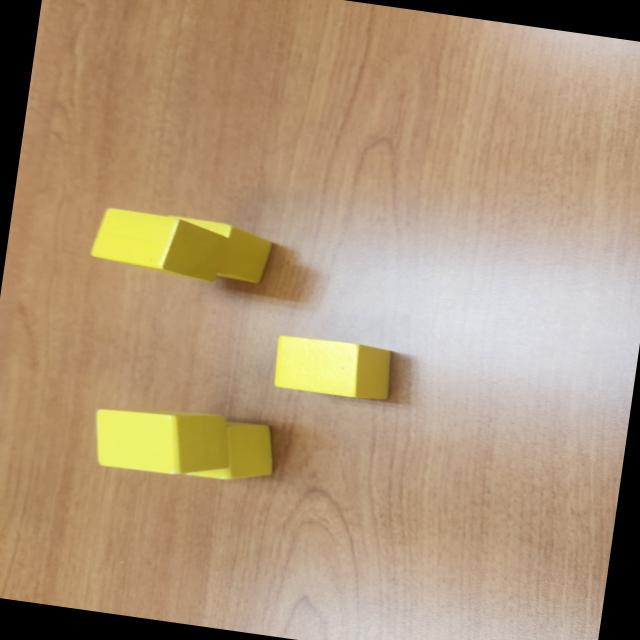yellow: (88, 398, 238, 484), (86, 205, 232, 285), (268, 332, 398, 406), (157, 216, 277, 292), (175, 412, 282, 488)
